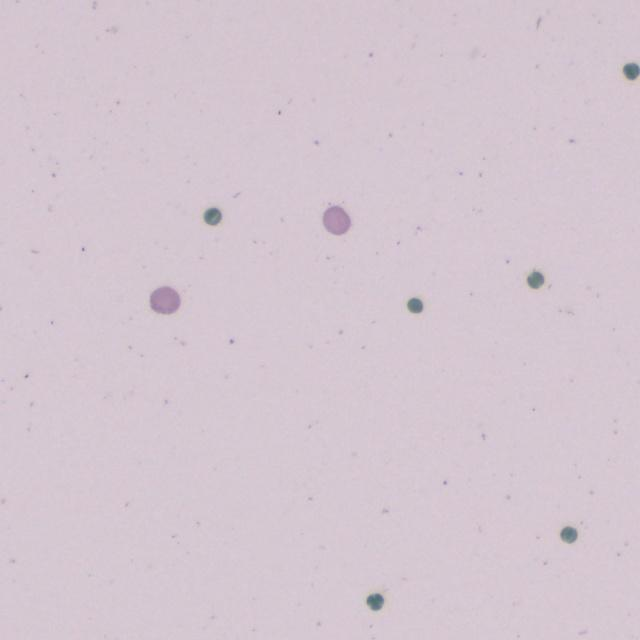intermediate: (150, 286, 180, 313), (323, 206, 351, 234)
non_viable: (203, 208, 221, 225), (527, 270, 544, 288), (622, 62, 639, 80), (560, 526, 577, 543), (366, 593, 383, 610), (407, 298, 422, 313)
